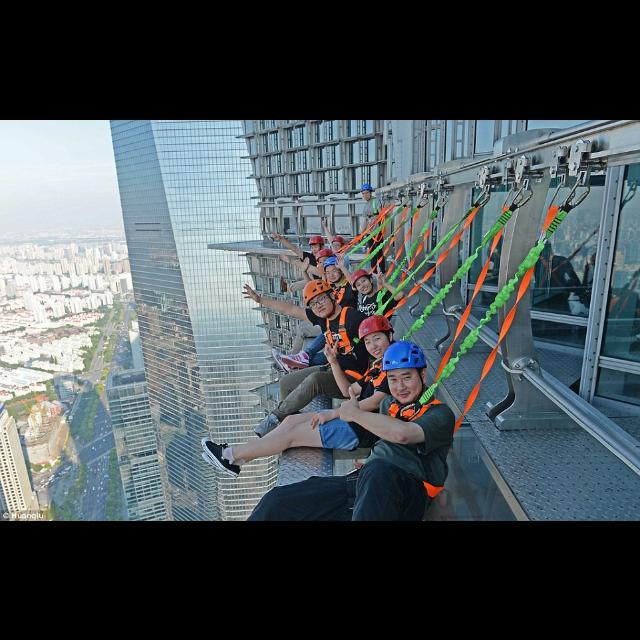head: (386, 357, 429, 405), (364, 319, 394, 361), (307, 282, 337, 318), (354, 272, 374, 294), (318, 250, 336, 272), (311, 239, 325, 257), (332, 238, 346, 252), (362, 187, 374, 201)
person: (196, 312, 412, 480), (239, 274, 383, 442), (268, 253, 410, 375), (276, 246, 348, 358), (278, 213, 354, 297), (270, 228, 336, 304), (358, 180, 388, 278)
